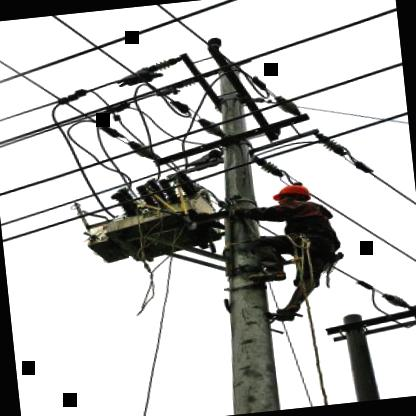helmet: (266, 179, 314, 213)
